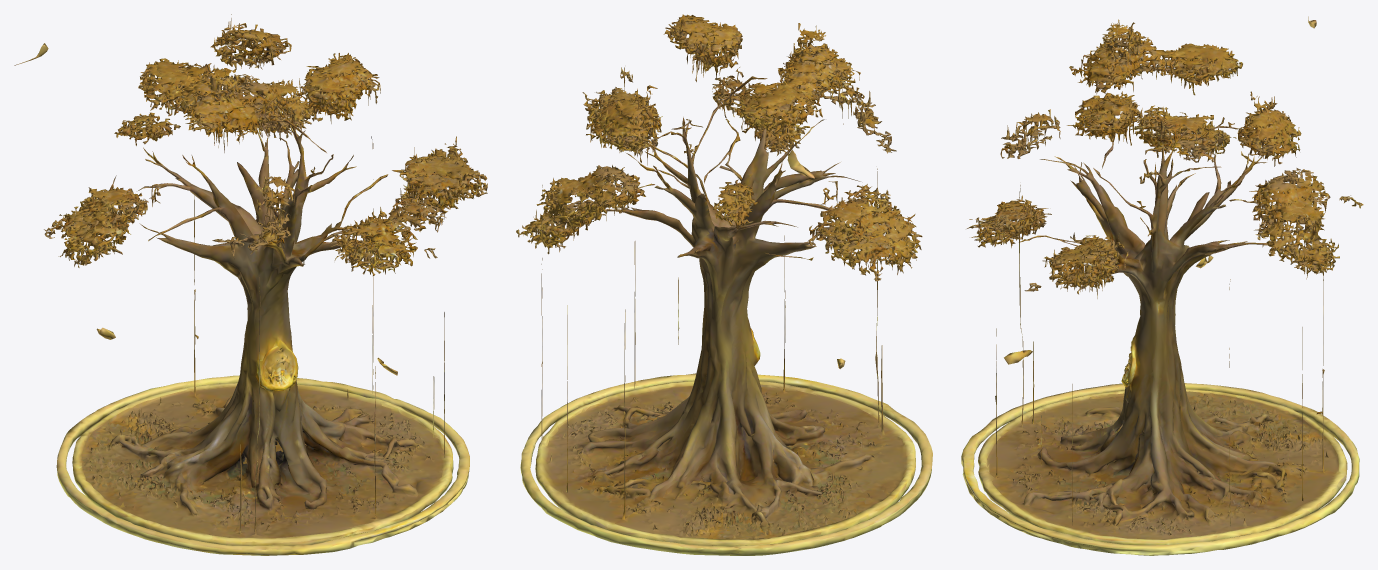
Rendered from Meshy_AI_Enchanted_Luminescenc_1115232831_texture.glb.
The picture shows the model from 3 angles, left to right: view 1: azimuth 30°, elevation 25°; view 2: azimuth 150°, elevation 25°; view 3: azimuth 270°, elevation 25°; orthographic projection. The views are drawn at different scales.
Bounding box in the file's own units: 1.77 × 1.96 × 1.7.
1 material, 1 textured.
